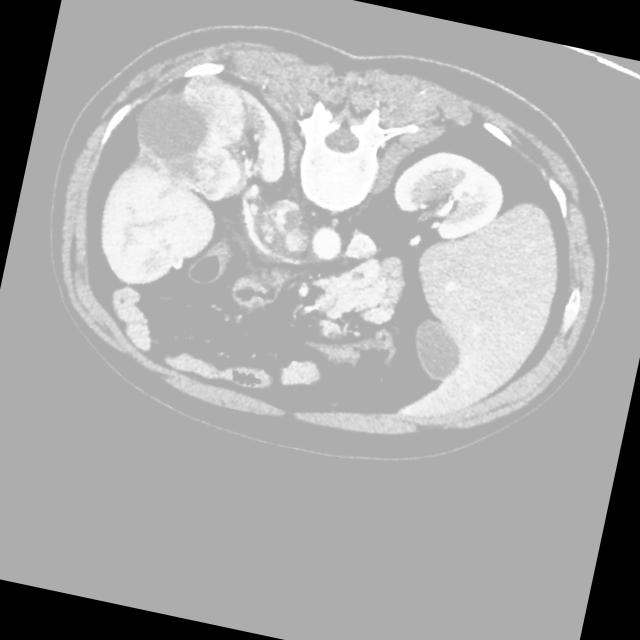TUMOR: (37, 15, 592, 439)
